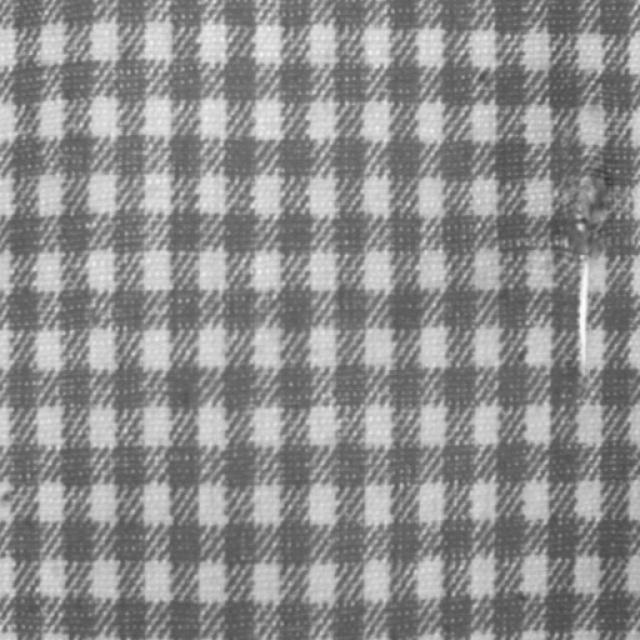Hole-Defect: (568, 162, 616, 370)
